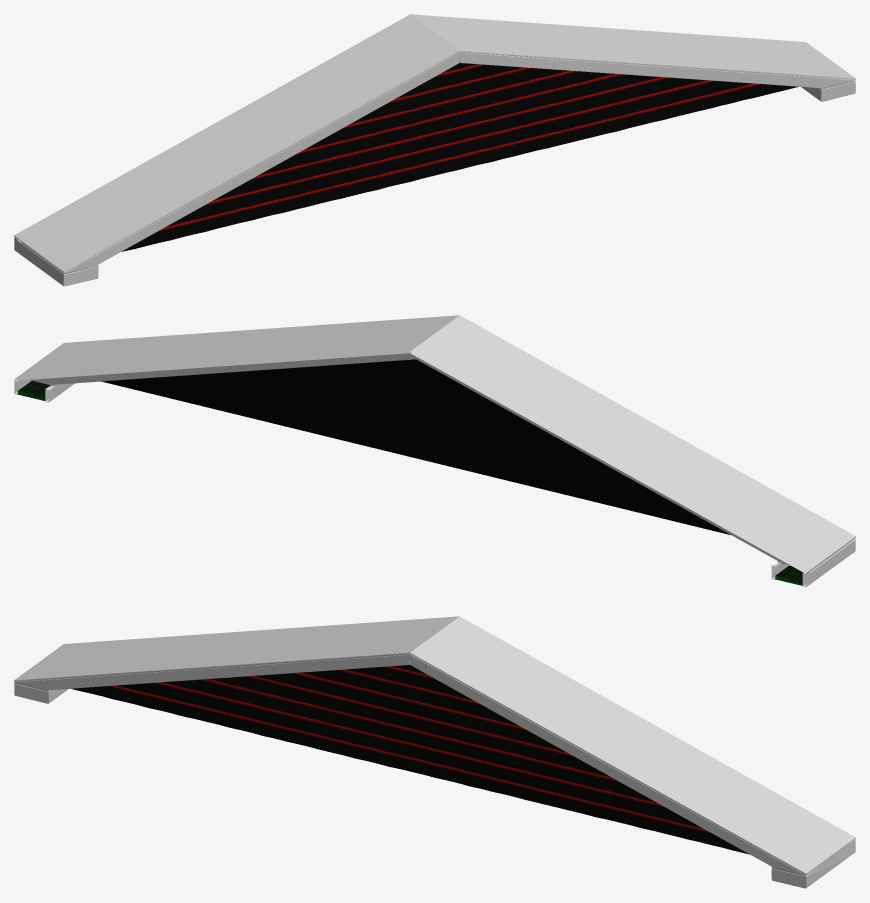
The model's file is SM_House_Roof_A_ShortEnd.fbx.
The picture shows the model from 3 angles, top to bottom: view 1: azimuth 30°, elevation 25°; view 2: azimuth 150°, elevation 25°; view 3: azimuth 330°, elevation 25°; orthographic projection.
Visible parts, largest first — view 1: SM_House_Roof_A_ShortEnd; view 2: SM_House_Roof_A_ShortEnd; view 3: SM_House_Roof_A_ShortEnd.
Boxes of the visible parts, x1,y1,x2,y2 form: SM_House_Roof_A_ShortEnd: (14,14,855,286); SM_House_Roof_A_ShortEnd: (14,315,855,587); SM_House_Roof_A_ShortEnd: (14,616,855,888).
Bounding box in the file's own units: 1151 × 125 × 194.
